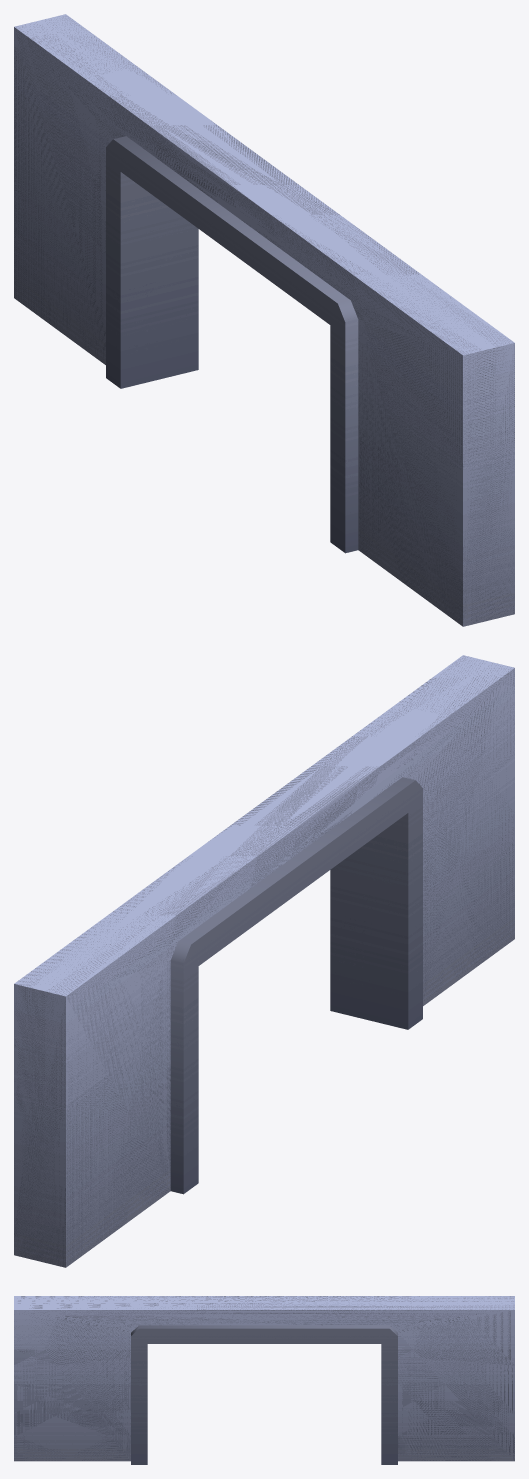
The model's file is wall-doorway-wide-sliding.glb.
3 renders of one model, top to bottom at view 1: azimuth 30°, elevation 25°; view 2: azimuth 150°, elevation 25°; view 3: azimuth 270°, elevation 25°, orthographic. The views are drawn at different scales.
Visible parts, largest first — view 1: wall-doorway-wide-sliding; view 2: wall-doorway-wide-sliding; view 3: wall-doorway-wide-sliding.
Part boxes in pixels (box(x1,y1,x2,y2)): wall-doorway-wide-sliding: box(14, 14, 514, 626); wall-doorway-wide-sliding: box(14, 655, 514, 1267); wall-doorway-wide-sliding: box(14, 1296, 514, 1464).
Size of the model in its own units: 0.3 by 1 by 3.
1 material, 1 textured.
